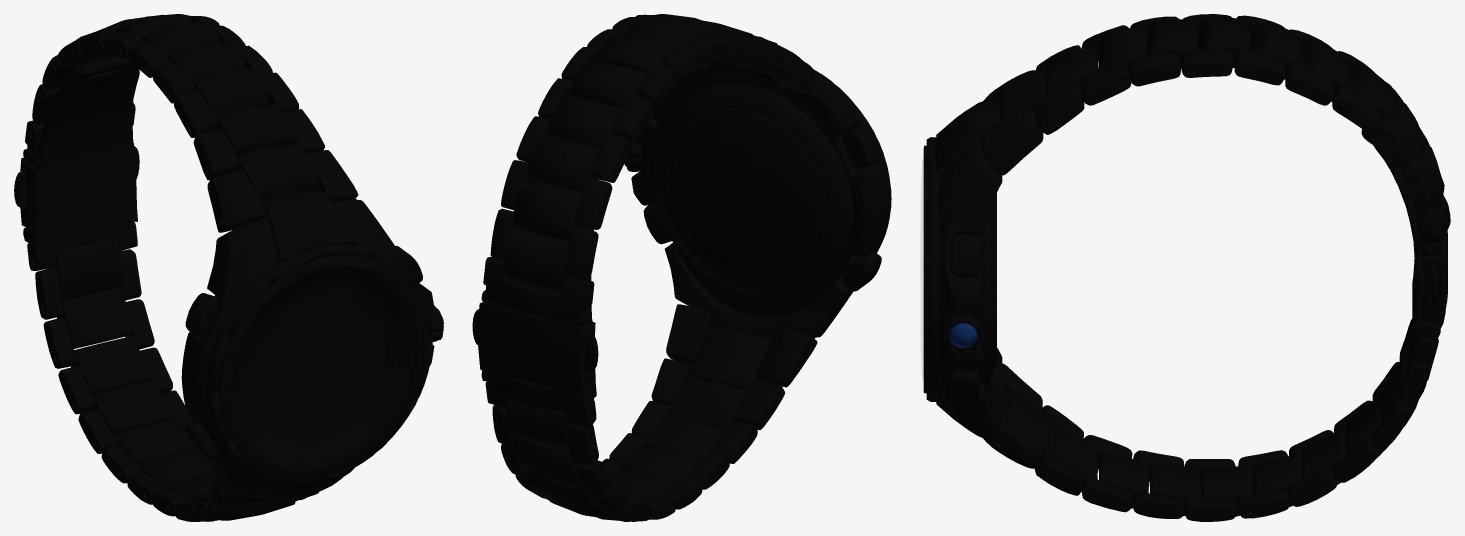
Rendered from hero-watch.glb.
3 views of the same model, side by side, from view 1: azimuth 30°, elevation 25°; view 2: azimuth 150°, elevation 25°; view 3: azimuth 270°, elevation 25° (orthographic). The views are drawn at different scales.
Parts seen in each view (by area): view 1: Cylinder:049_Cylinder:074.004; view 2: Cylinder:049_Cylinder:074.004; view 3: Cylinder:049_Cylinder:074.004.
Part boxes in pixels (x1,y1,x2,y2): Cylinder:049_Cylinder:074.004: (14,14,443,521); Cylinder:049_Cylinder:074.004: (472,14,891,521); Cylinder:049_Cylinder:074.004: (923,14,1450,521).
Bounding box in the file's own units: 0.0614 × 0.1073 × 0.1078.
2 materials, 2 textured.
